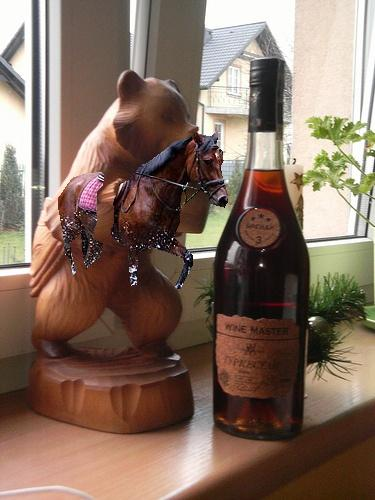tampered: (59, 132, 228, 289)
